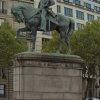Statue: (9, 3, 75, 50)
